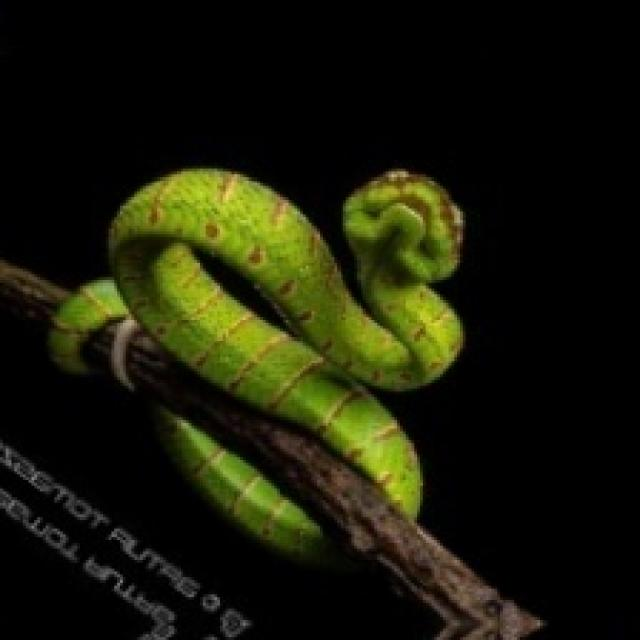north ph temple pitviper: (49, 169, 460, 514), (154, 409, 334, 563)
